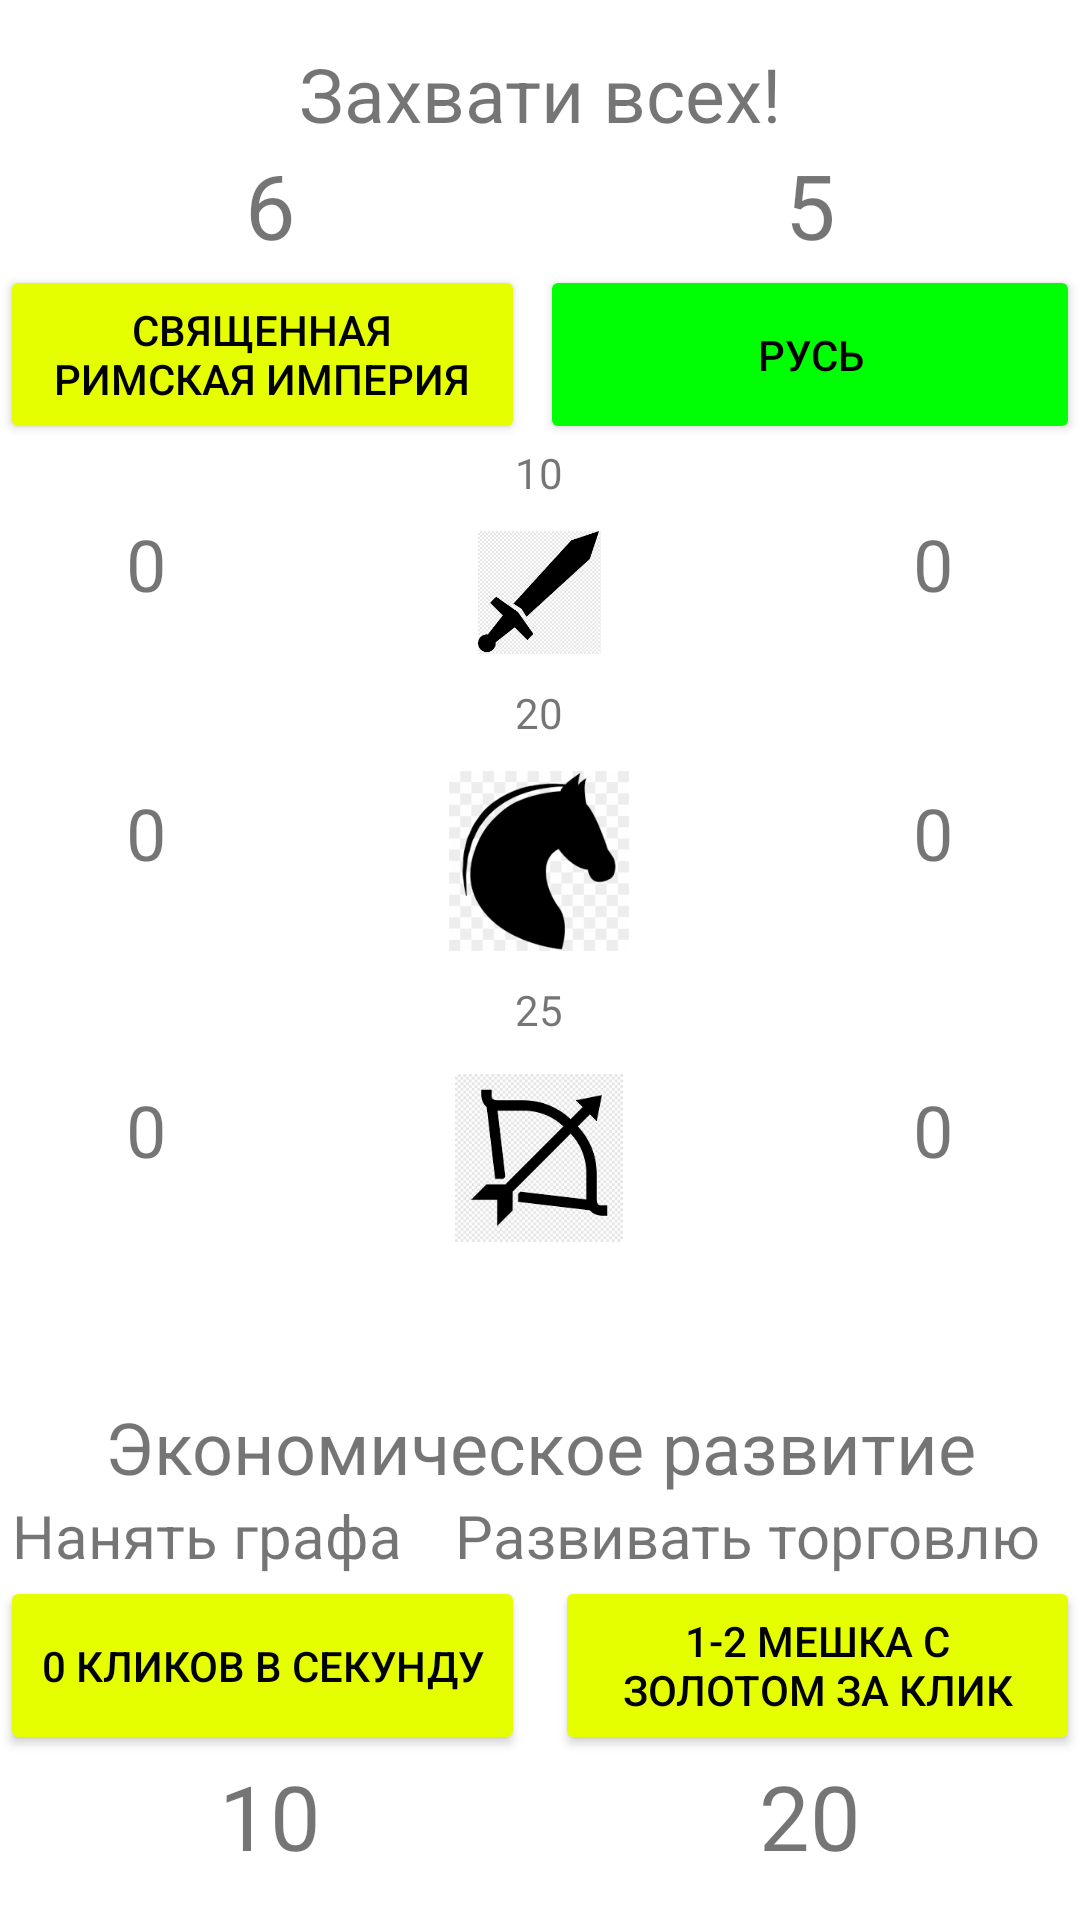

Point at icon controls on the screen. Image size 1080×1920, points as (x=x, y=y).
luk: (x=539, y=1158)
mech: (x=539, y=592)
